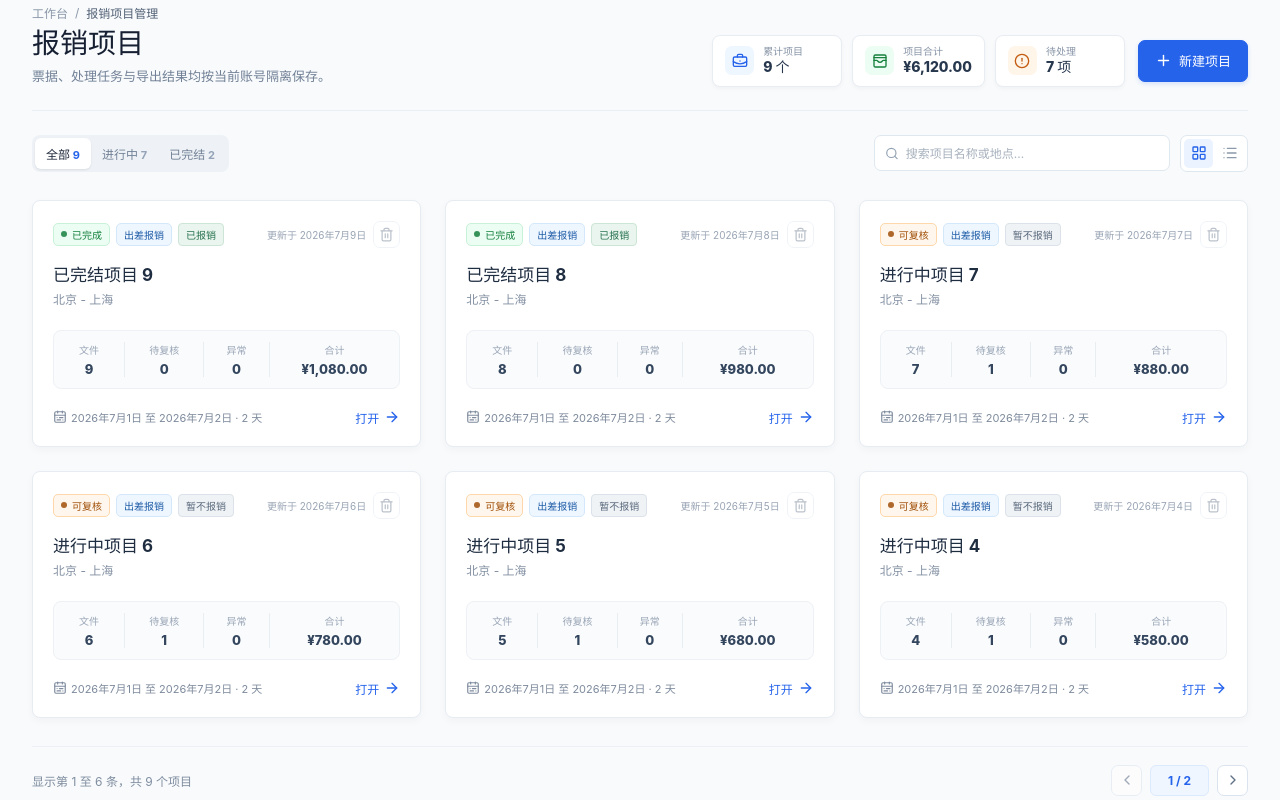
Test: TripsPage › filters, searches, changes display mode, and paginates the real project data
Expected: the text "进行中项目 1" is not shown
Expected: the heading "进行中项目 7" is shown, x1=880 y1=264 x2=979 y2=284
Click the button named "下一页". click: [1232, 780]
box: x1=1217 y1=765 x2=1248 y2=796
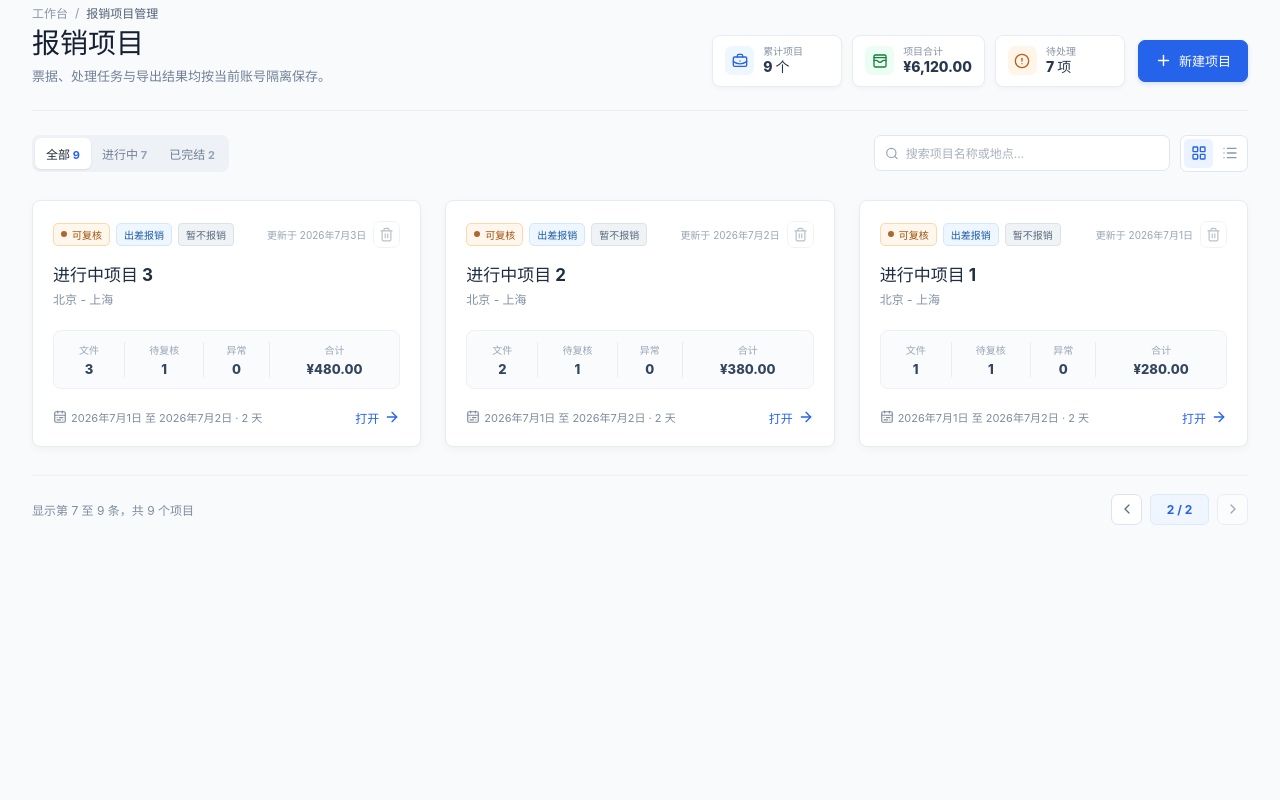
Result: the heading "进行中项目 1" is shown at x1=880 y1=264 x2=976 y2=284
Result: the heading "进行中项目 7" is gone
Click the tab "已完结 2". click: [192, 153]
box: x1=158 y1=138 x2=226 y2=168
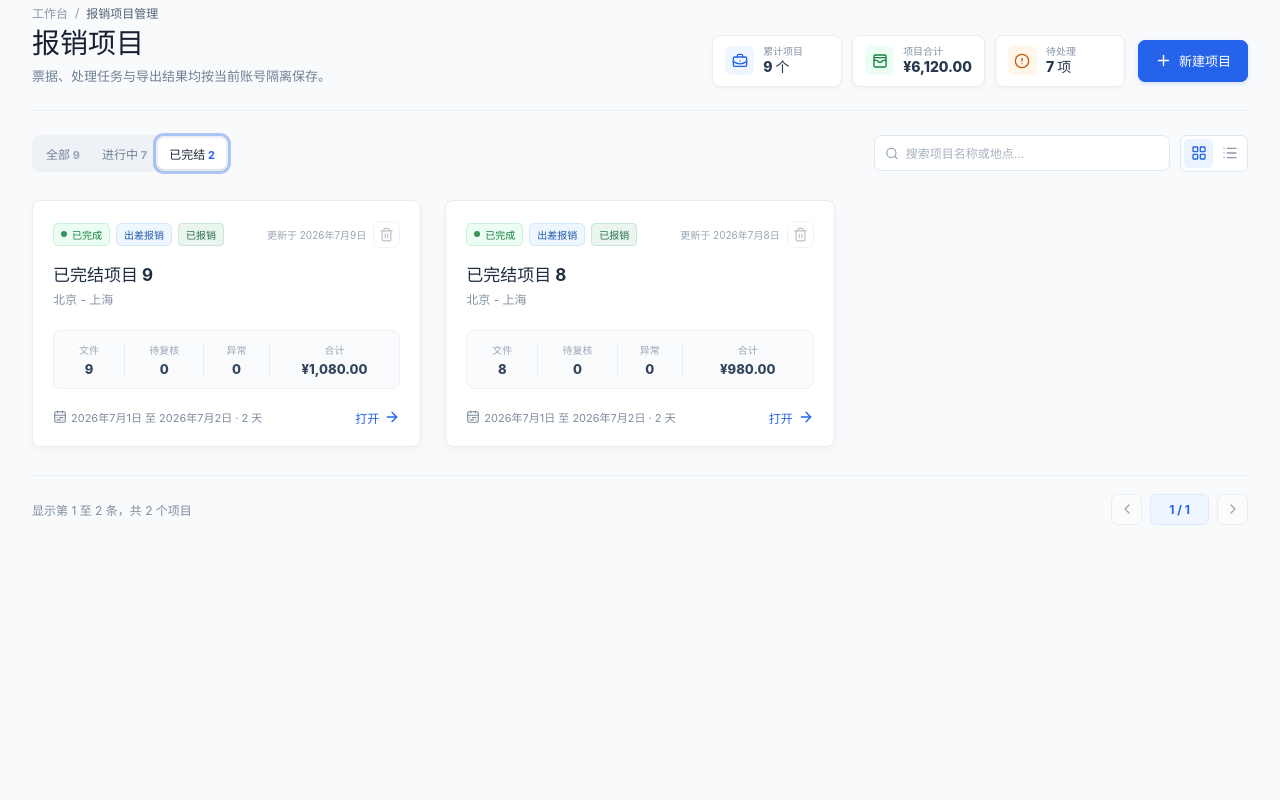
Result: the heading "已完结项目 9" is shown at x1=53 y1=264 x2=153 y2=284
Result: the text "已报销" in the row of "2026年7月9日" is shown at x1=186 y1=228 x2=216 y2=240
Result: the heading "进行中项目 1" is gone
Type "9" into the field labelled "搜索项目". click: [1032, 153]
box: x1=906 y1=136 x2=1159 y2=170
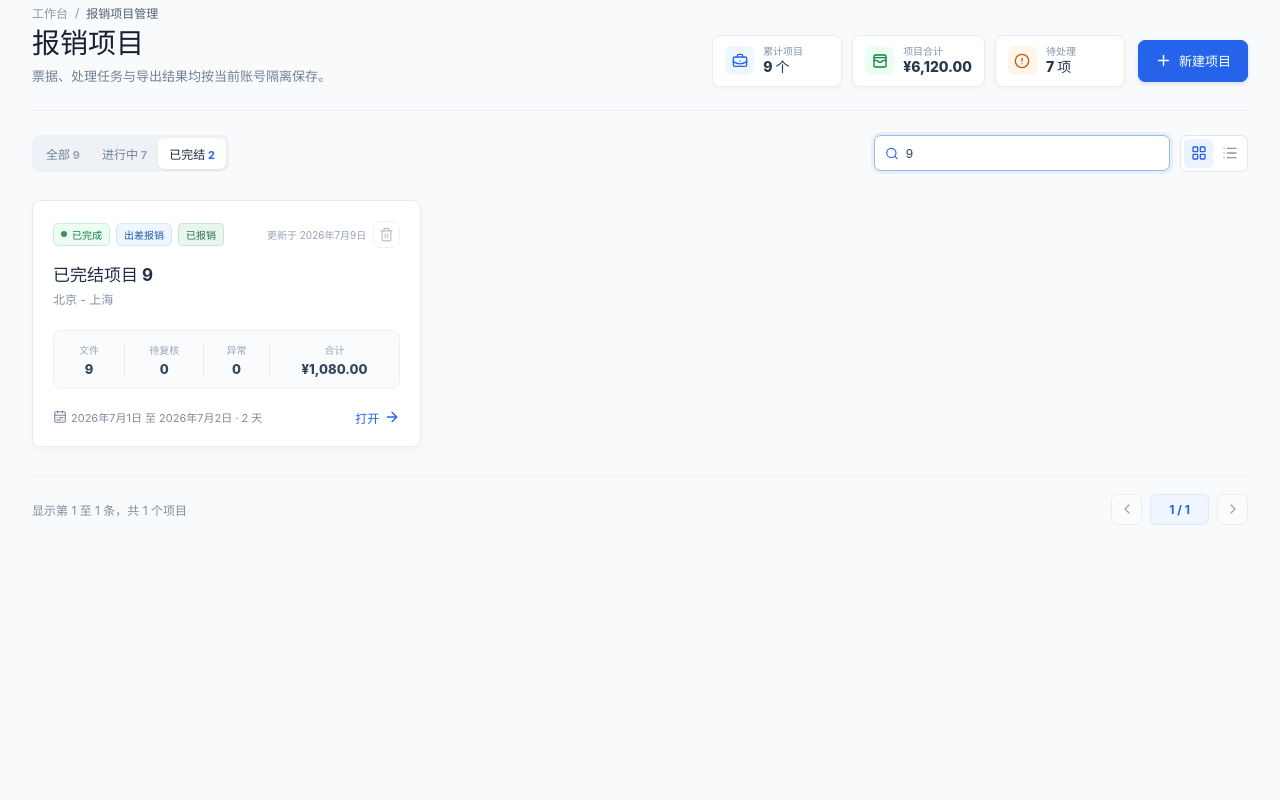
Result: the heading "已完结项目 9" is shown at x1=53 y1=264 x2=153 y2=284
Result: the heading "已完结项目 8" is gone
Click the button named "列表视图". click: [1230, 153]
box: x1=1215 y1=138 x2=1244 y2=168
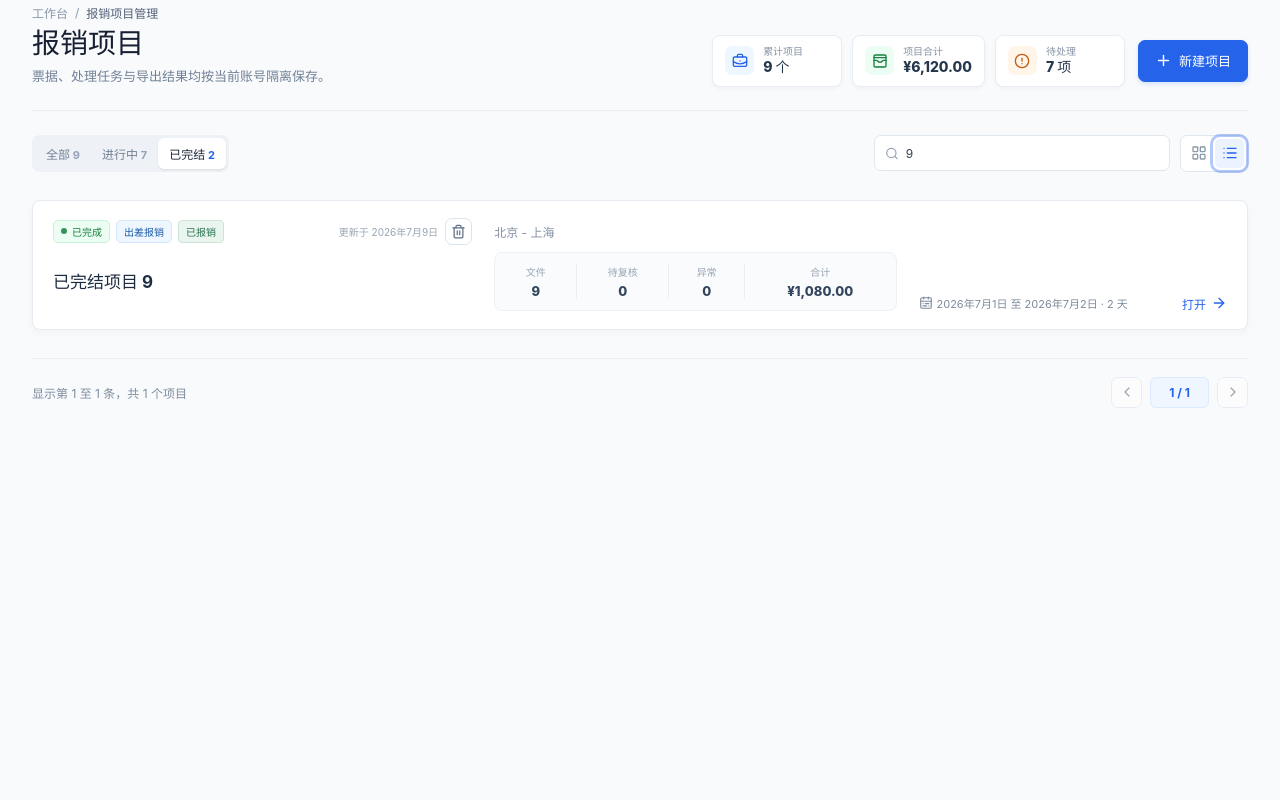
Result: the element that starts with "已完成" is shown at x1=32 y1=200 x2=1248 y2=330
